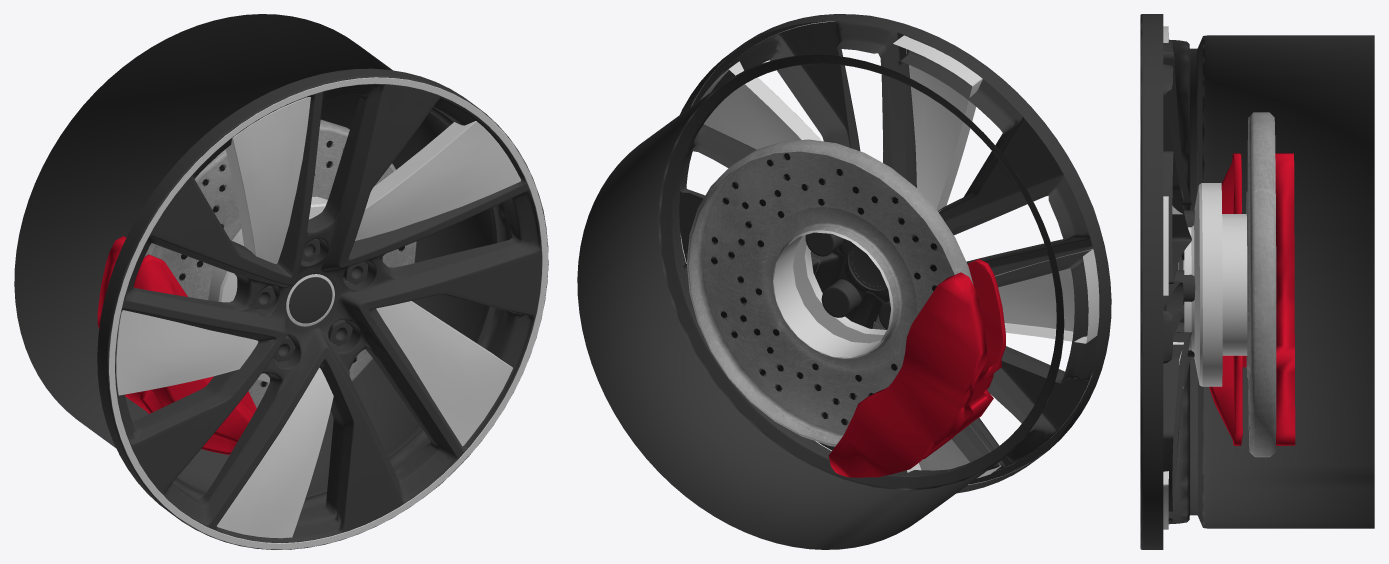
Rendered from jant2.fbx.
The picture shows the model from 3 angles, left to right: view 1: azimuth 30°, elevation 25°; view 2: azimuth 150°, elevation 25°; view 3: azimuth 270°, elevation 25°; orthographic projection. The views are drawn at different scales.
Visible parts, largest first — view 1: black_shiny_25_black_shiny_0, black_shiny_16_black_shiny_0, silver_17_silver_0, Rim_I.001, silver_15_silver_0, black_shiny_17_black_shiny_0, black_shiny_23_black_shiny_0; view 2: Rim_I.001, black_shiny_16_black_shiny_0, black_shiny_25_black_shiny_0, silver_17_silver_0, black_shiny_23_black_shiny_0; view 3: black_shiny_16_black_shiny_0, Rim_I.001, black_shiny_25_black_shiny_0, silver_17_silver_0, silver_15_silver_0.
Boxes of the visible parts, box(x1,y1,x2,y2) form: black_shiny_25_black_shiny_0: box(97, 68, 548, 549); black_shiny_16_black_shiny_0: box(14, 14, 512, 512); silver_17_silver_0: box(116, 97, 520, 538); Rim_I.001: box(97, 119, 416, 454); silver_15_silver_0: box(108, 77, 548, 549); black_shiny_17_black_shiny_0: box(255, 238, 367, 361); black_shiny_23_black_shiny_0: box(289, 277, 332, 323); Rim_I.001: box(687, 139, 1005, 477); black_shiny_16_black_shiny_0: box(577, 54, 1064, 549); black_shiny_25_black_shiny_0: box(679, 14, 1111, 493); silver_17_silver_0: box(700, 35, 1099, 478); black_shiny_23_black_shiny_0: box(849, 243, 887, 290); black_shiny_16_black_shiny_0: box(1168, 35, 1374, 528); Rim_I.001: box(1183, 112, 1295, 457); black_shiny_25_black_shiny_0: box(1140, 14, 1195, 549); silver_17_silver_0: box(1163, 26, 1183, 529); silver_15_silver_0: box(1140, 15, 1140, 548).
Bounding box in the file's own units: 42.75 × 42.75 × 18.72.
Materials: 4 (1 with a texture image).
